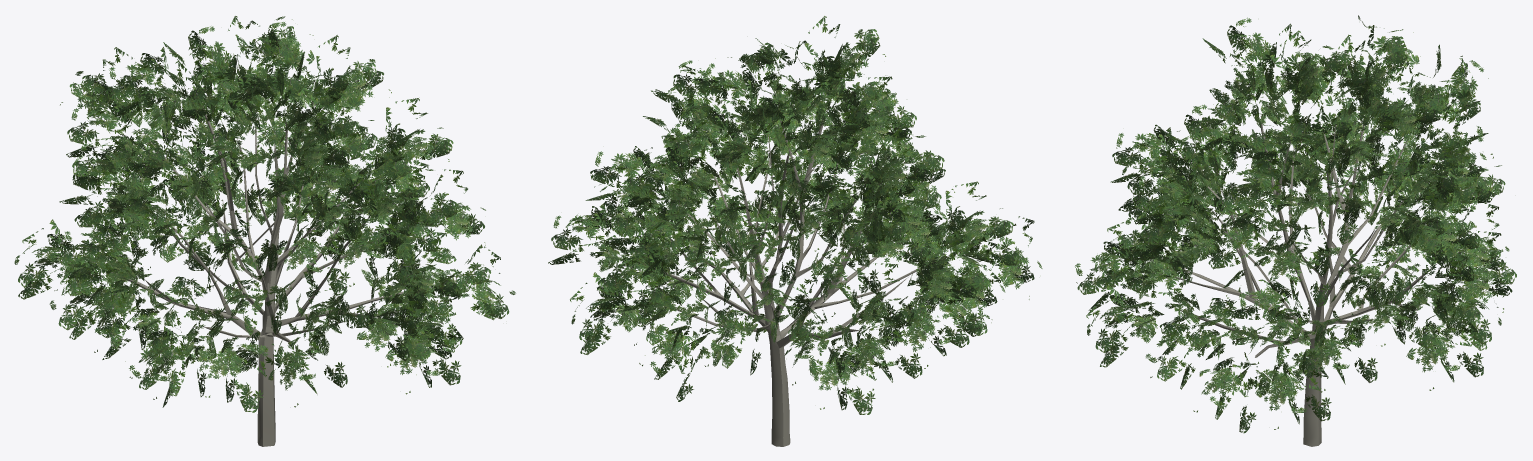
The model's file is tree.fbx.
3 views of the same model, side by side, from view 1: azimuth 30°, elevation 25°; view 2: azimuth 150°, elevation 25°; view 3: azimuth 270°, elevation 25° (orthographic). The views are drawn at different scales.
Parts seen in each view (by area): view 1: tree pack 005; view 2: tree pack 005; view 3: tree pack 005.
Part boxes in pixels (x1,y1,x2,y2): tree pack 005: (14,16,515,446); tree pack 005: (548,16,1042,446); tree pack 005: (1075,15,1516,446).
Size of the model in its own units: 5010 by 4819 by 4794.
